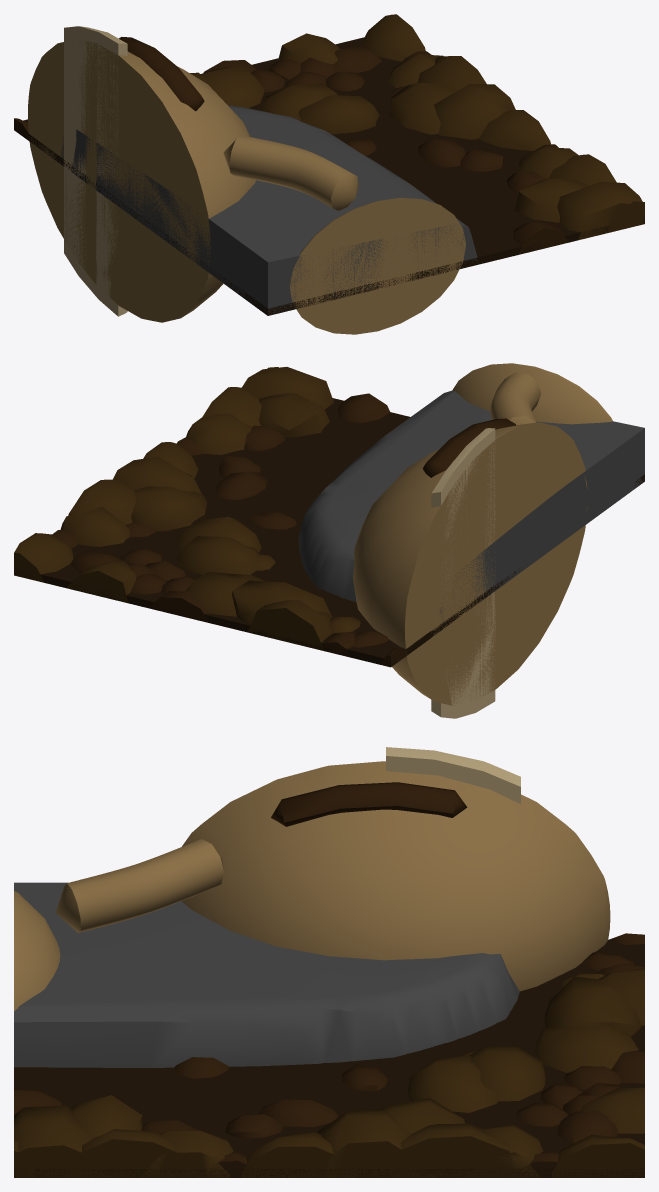
File: gold_domes_tr.glb
3 views of the same model, one above another, from view 1: azimuth 30°, elevation 25°; view 2: azimuth 150°, elevation 25°; view 3: azimuth 270°, elevation 25° (orthographic). The views are drawn at different scales.
Visible parts, largest first — view 1: dome_big, housing, dome_right, dirt_base, plate0, pipe1, dirt_23, dirt_31, dirt_62, dirt_15, dirt_45, dirt_51 (+19 smaller); view 2: dome_big, housing, dirt_base, plate0, dome_right, dirt_13, dirt_15, dirt_11, dirt_10, dirt_23, dirt_27, dirt_51 (+20 smaller); view 3: dome_big, housing, dirt_base, pipe1, dirt_31, slot2, dirt_23, dirt_39, dirt_38, dirt_27, dirt_26, dome_right (+23 smaller).
Boxes of the visible parts, x1,y1,x2,y2 form: dome_big: [28, 40, 255, 322]; housing: [60, 105, 477, 315]; dome_right: [289, 197, 465, 334]; dirt_base: [14, 37, 644, 315]; plate0: [64, 26, 127, 316]; pipe1: [223, 135, 358, 210]; dirt_23: [557, 181, 644, 240]; dirt_31: [434, 84, 515, 139]; dirt_62: [298, 95, 379, 134]; dirt_15: [390, 82, 458, 134]; dirt_45: [479, 110, 550, 150]; dirt_51: [362, 14, 425, 61]; dome_big: [353, 422, 587, 705]; housing: [298, 390, 644, 621]; dirt_base: [14, 398, 644, 666]; plate0: [431, 428, 495, 718]; dome_right: [452, 363, 612, 424]; dirt_13: [247, 600, 331, 651]; dirt_15: [131, 486, 207, 531]; dirt_11: [176, 536, 259, 574]; dirt_10: [259, 393, 329, 437]; dirt_23: [242, 367, 333, 409]; dirt_27: [232, 580, 331, 634]; dirt_51: [14, 533, 73, 582]; dome_big: [181, 761, 610, 991]; housing: [14, 882, 519, 1067]; dirt_base: [14, 940, 644, 1177]; pipe1: [55, 839, 223, 932]; dirt_31: [317, 1110, 418, 1177]; slot2: [271, 782, 467, 826]; dirt_23: [14, 1105, 106, 1177]; dirt_39: [390, 1123, 515, 1177]; dirt_38: [64, 1129, 198, 1177]; dirt_27: [544, 976, 641, 1036]; dirt_26: [535, 1025, 638, 1072]; dome_right: [14, 891, 60, 1011].
Bounding box in the file's own units: 24 × 16.61 × 28.
